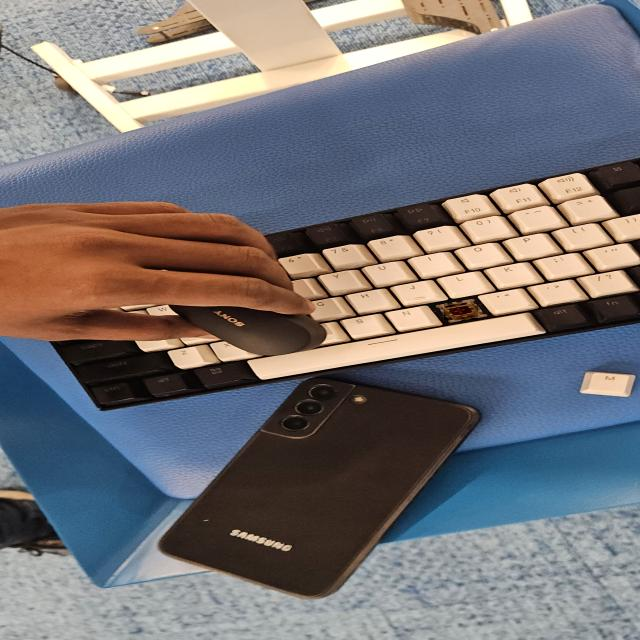C: (444, 304, 478, 320), (443, 305, 474, 317)
